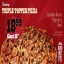pizza: (1, 27, 54, 64)
